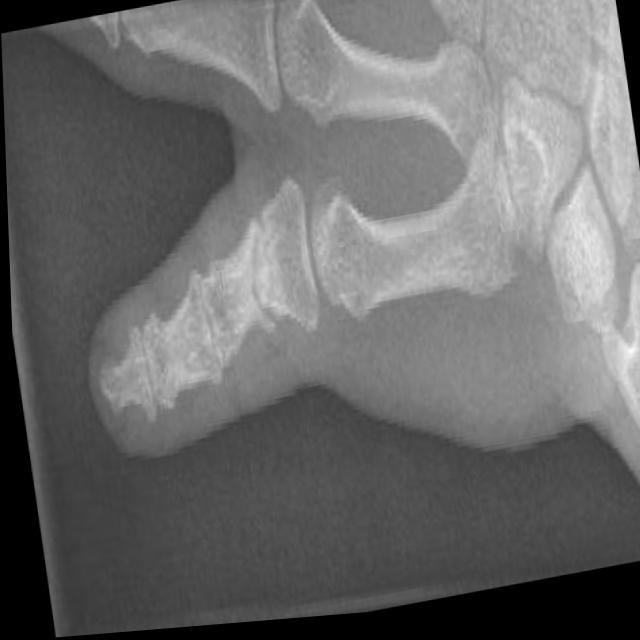fracture: (228, 177, 295, 364)
